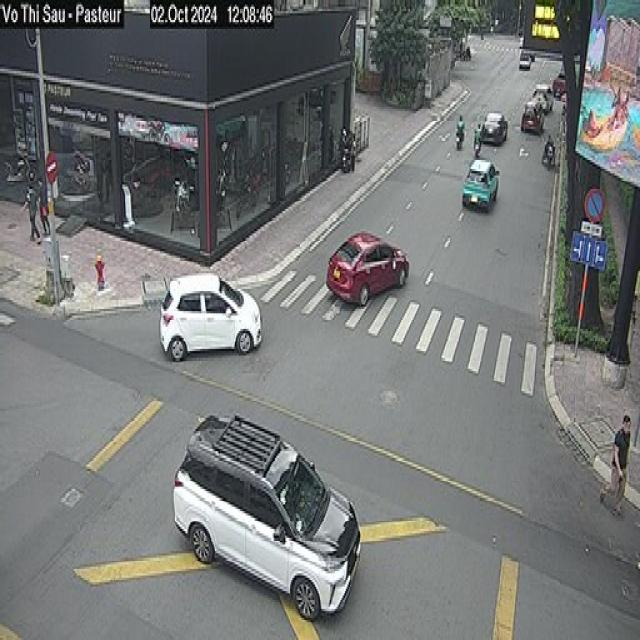car: (171, 411, 361, 620), (159, 271, 261, 360), (325, 231, 409, 307), (461, 158, 499, 211), (480, 111, 508, 145), (536, 76, 554, 121), (552, 59, 568, 108), (520, 102, 544, 134), (519, 51, 530, 69)
motorcycle: (451, 130, 471, 151), (546, 146, 560, 176)
person: (601, 412, 634, 514), (20, 182, 41, 245), (345, 122, 359, 173), (38, 178, 48, 233), (544, 133, 555, 167), (472, 122, 482, 156), (455, 113, 464, 149)
